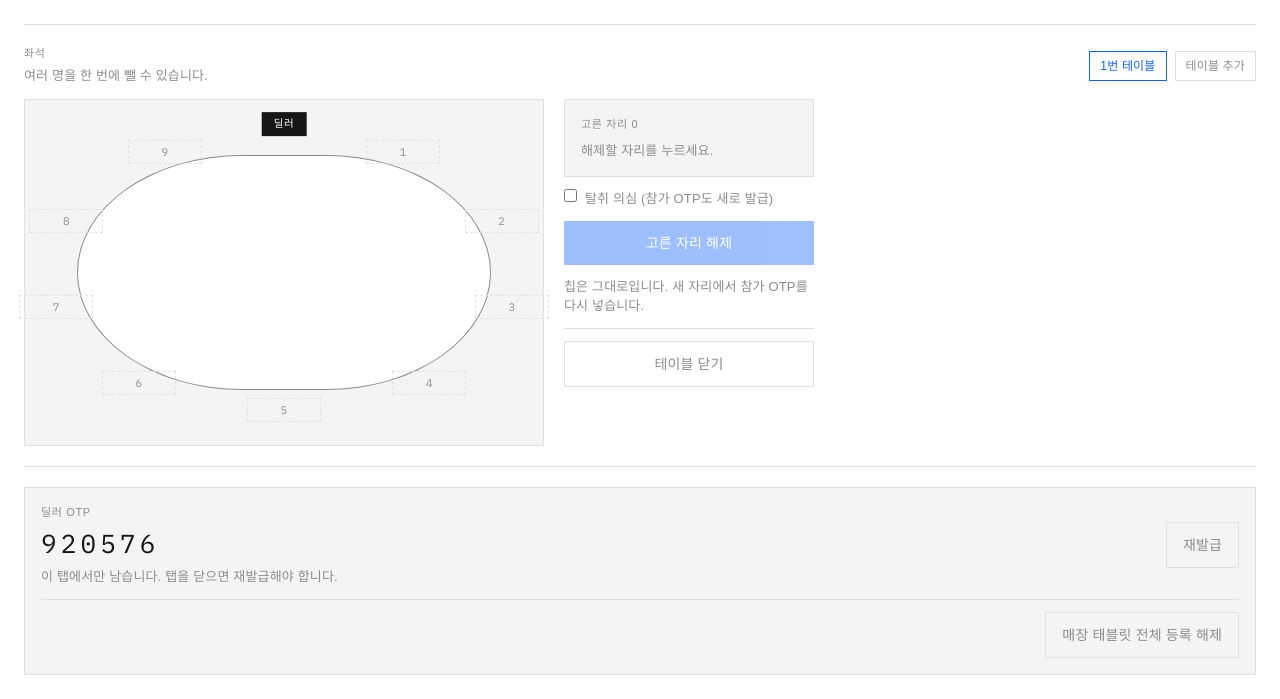
Test: 매장 태블릿 전체 등록 해제(T112) › 성공하면 해제했다는 안내가 보인다
The width and height of the screenshot is (1280, 699).
(page scrolled)
Click the button "매장 태블릿 전체 등록 해제": (1142, 635) [1045,612,1239,658]
(page scrolled)
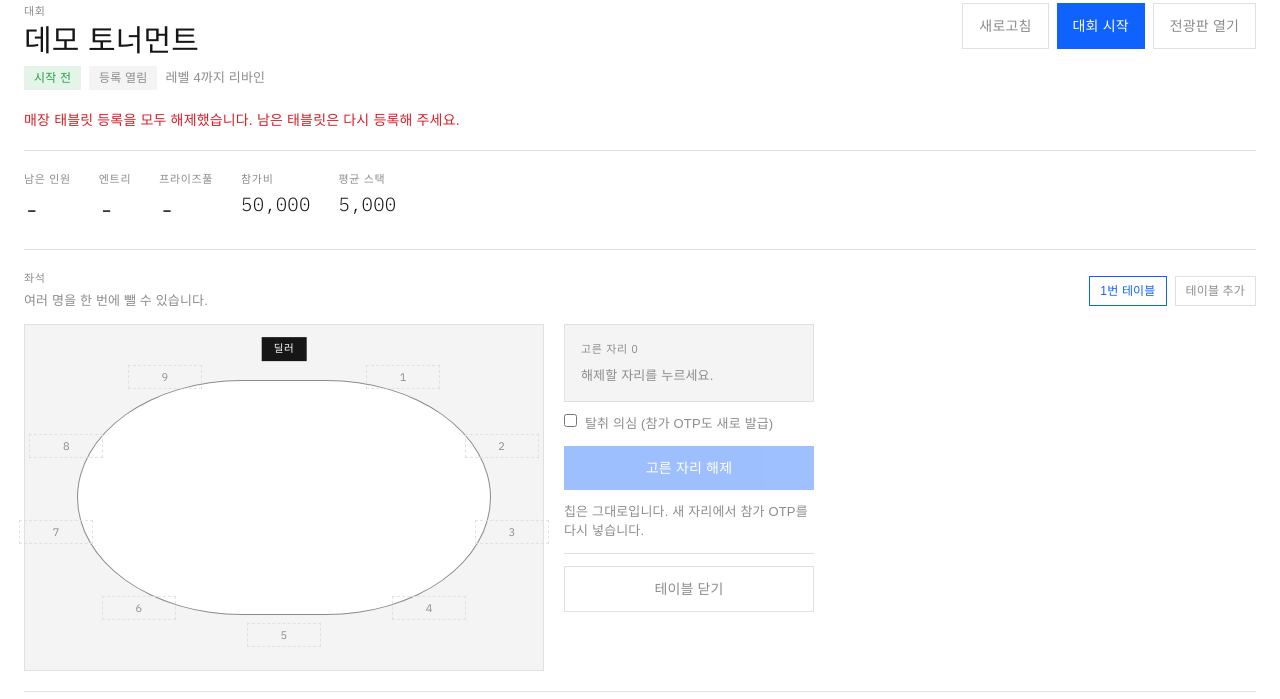
expect the text "매장 태블릿 등록을 모두 해제했습니다. 남은 태블릿은 다시 등록해 주세요." is shown: met, box [24,112,460,128]
